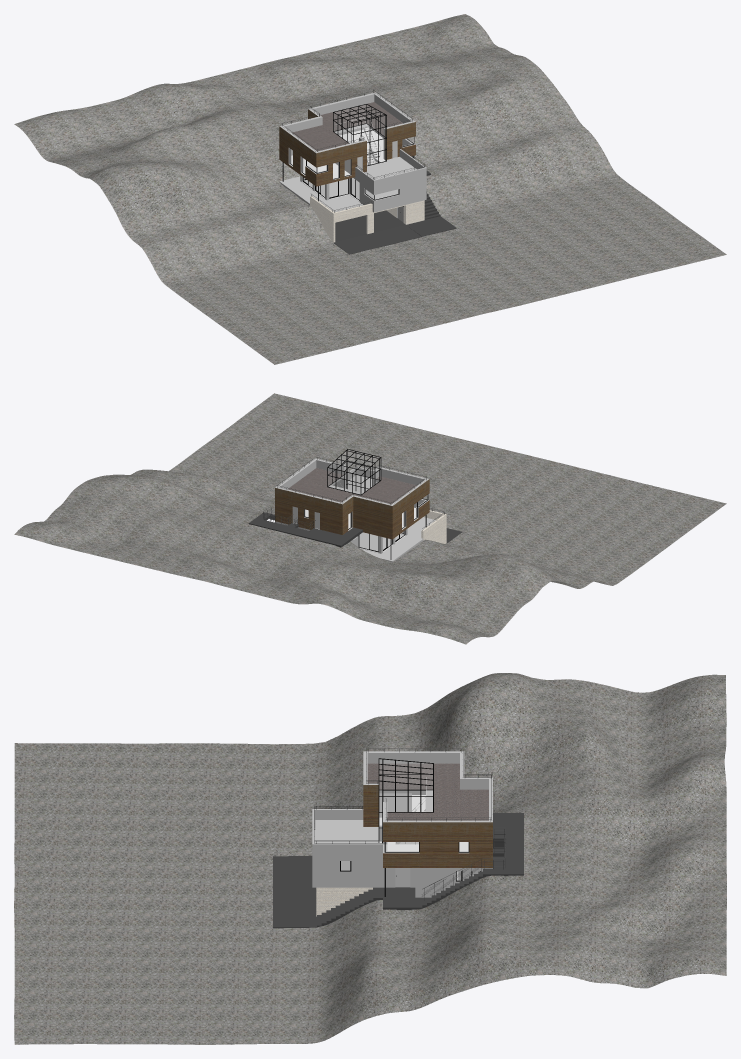
The model's file is showcaseModernOfficeBuilding.ef910dc7.glb.
The picture shows the model from 3 angles, top to bottom: view 1: azimuth 30°, elevation 25°; view 2: azimuth 150°, elevation 25°; view 3: azimuth 270°, elevation 25°; orthographic projection. The views are drawn at different scales.
Parts seen in each view (by area): view 1: Sol-environnement.004, batiment.006, plancher-ss-sol.001, cube-cuisine.003, plancher.010, batiment, plancher.002, plancher.003, Cube.008; view 2: Sol-environnement.004, batiment.006, plancher.010, plancher.002, palier-ext.003, batiment; view 3: Sol-environnement.004, batiment.006, plancher.010, cube-cuisine.003, plancher-ss-sol.001, palier-ext.003, batiment.004, Cube.008, palier-ext, escalier.001, batiment, plancher.003 (+1 smaller).
Part boxes in pixels (bbox=[...]): Sol-environnement.004: bbox=[14, 14, 726, 364]; batiment.006: bbox=[279, 92, 415, 186]; plancher-ss-sol.001: bbox=[334, 210, 456, 254]; cube-cuisine.003: bbox=[348, 149, 426, 212]; plancher.010: bbox=[292, 102, 402, 151]; batiment: bbox=[310, 196, 424, 242]; plancher.002: bbox=[279, 157, 398, 212]; plancher.003: bbox=[289, 129, 402, 179]; Cube.008: bbox=[364, 157, 416, 179]; Sol-environnement.004: bbox=[14, 393, 726, 644]; batiment.006: bbox=[275, 458, 429, 539]; plancher.010: bbox=[287, 468, 416, 504]; plancher.002: bbox=[359, 517, 435, 561]; palier-ext.003: bbox=[248, 515, 362, 547]; batiment: bbox=[421, 510, 446, 543]; Sol-environnement.004: bbox=[14, 673, 726, 1044]; batiment.006: bbox=[363, 751, 492, 867]; plancher.010: bbox=[367, 763, 488, 820]; cube-cuisine.003: bbox=[312, 809, 382, 887]; plancher-ss-sol.001: bbox=[273, 856, 316, 928]; palier-ext.003: bbox=[493, 813, 523, 875]; batiment.004: bbox=[383, 868, 492, 897]; Cube.008: bbox=[315, 820, 378, 842]; palier-ext: bbox=[383, 842, 504, 909]; escalier.001: bbox=[317, 887, 383, 927]; batiment: bbox=[316, 887, 372, 916]; plancher.003: bbox=[379, 795, 468, 851].
Size of the model in its own units: 57.97 by 11.46 by 57.97.
18 materials, 4 textured.
